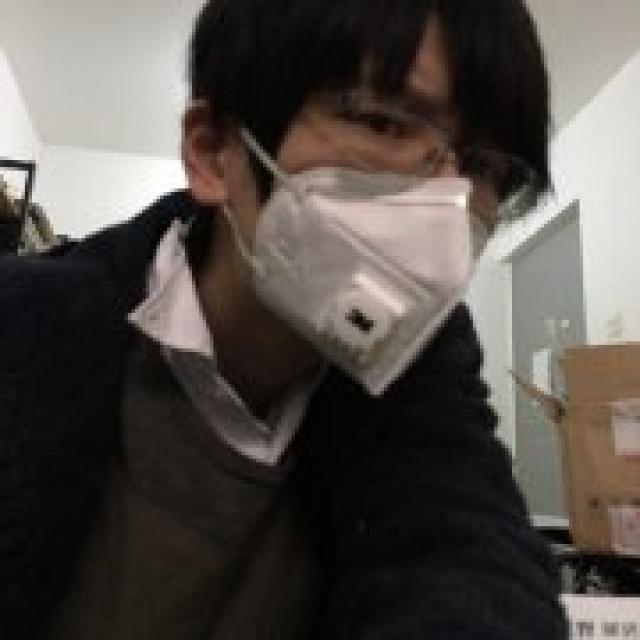mask: (259, 41, 502, 364)
